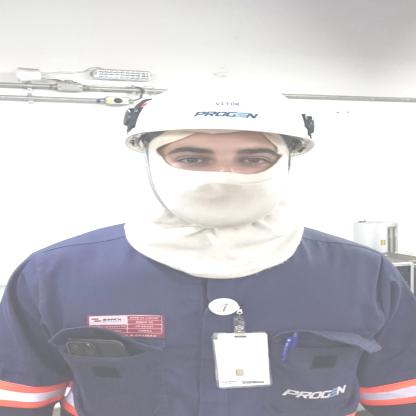Balaclava: (123, 134, 309, 276)
Capacete: (112, 78, 324, 155)
